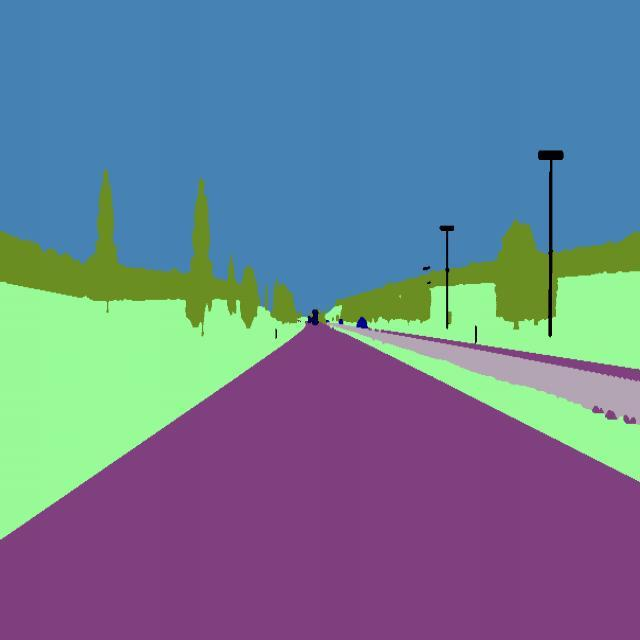safe: (309, 306, 321, 328), (355, 316, 370, 333)
